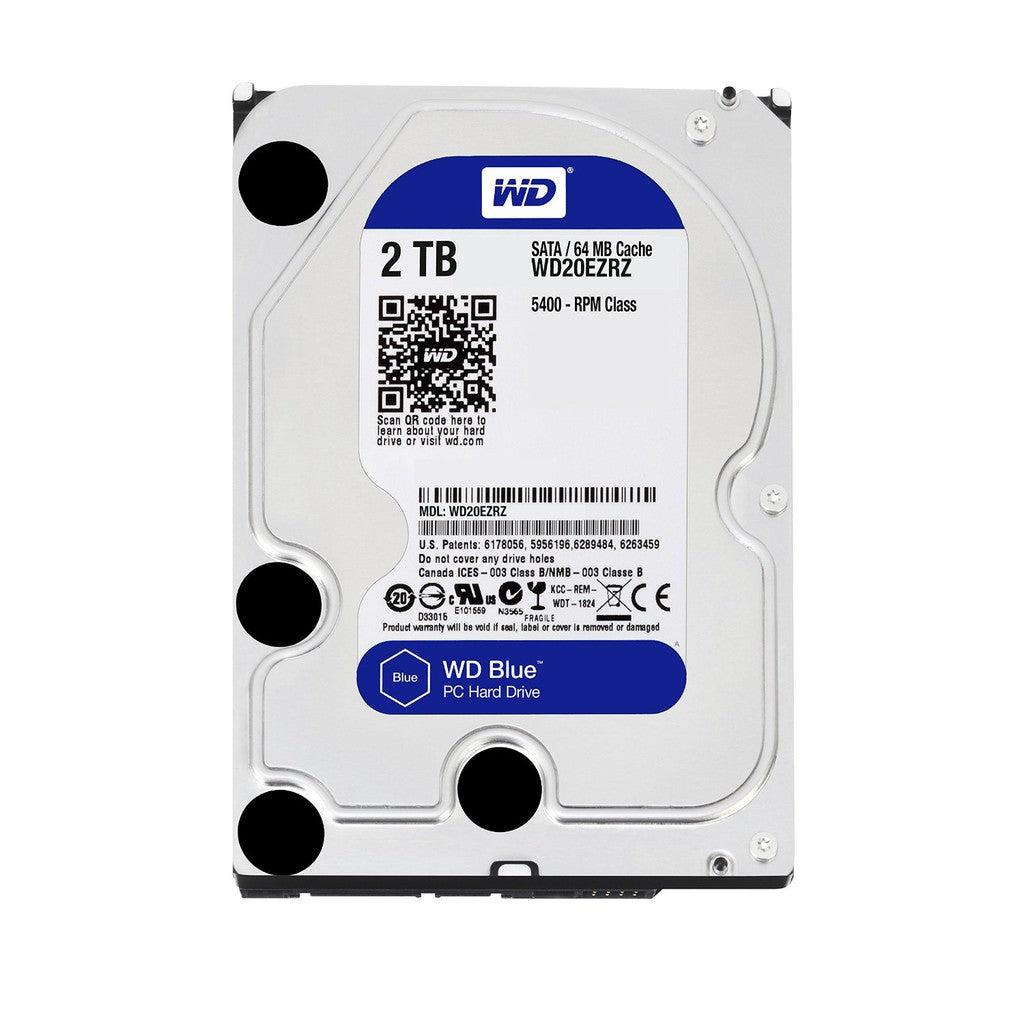internal HDD: (230, 80, 798, 909)
